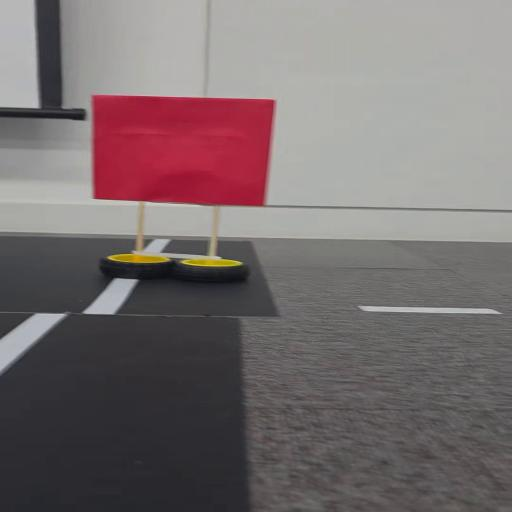Sign_A: (88, 91, 284, 286)
